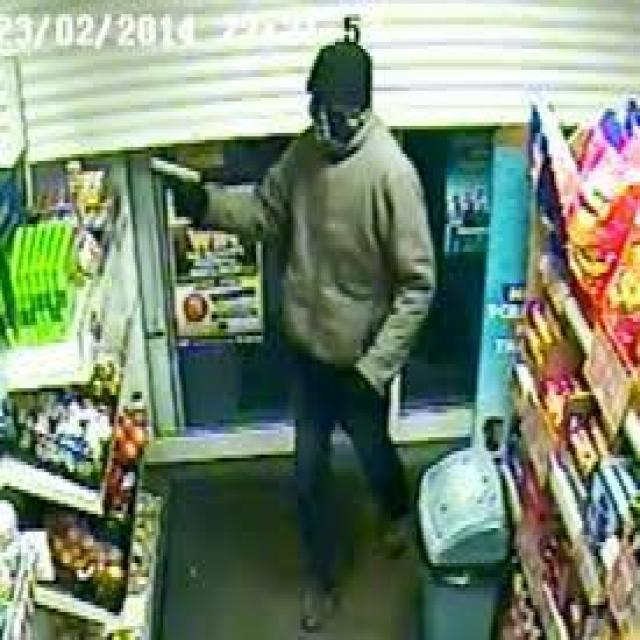weapon: (142, 147, 210, 220)
